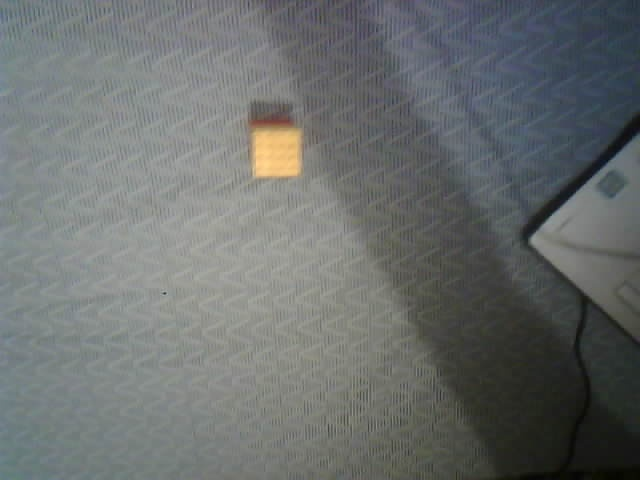lego: (247, 118, 303, 178)
